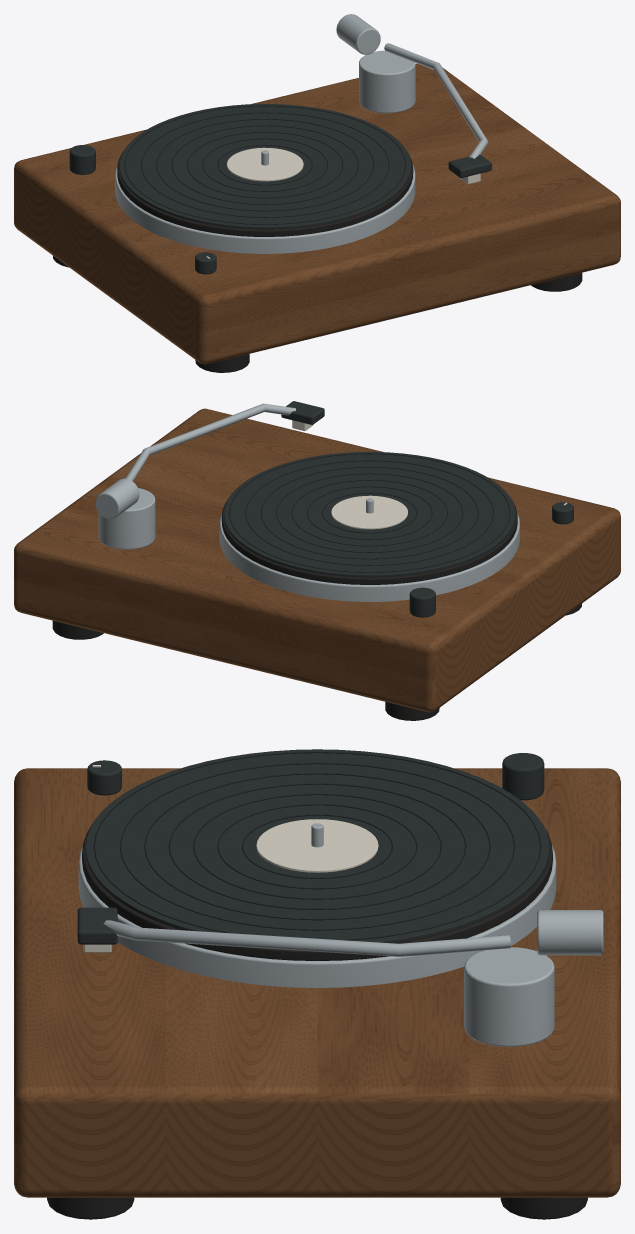
The model's file is innerscene-walnut-spin-angular.glb.
3 renders of one model, top to bottom at view 1: azimuth 30°, elevation 25°; view 2: azimuth 150°, elevation 25°; view 3: azimuth 270°, elevation 25°, orthographic. The views are drawn at different scales.
Visible parts, largest first — view 1: Walnut deck plinth, Vinyl record, Turntable bearing, Tonearm pivot, Rubber platter mat, Record centre label, Articulated tonearm, Tonearm counterweight, Record groove.006, Record groove.005, Belt motor pulley, Pickup headshell (+5 smaller); view 2: Walnut deck plinth, Vinyl record, Turntable bearing, Rubber platter mat, Tonearm pivot, Record centre label, Articulated tonearm, Tonearm counterweight, Record groove.006, Record groove.005, Belt motor pulley, Record groove.004 (+6 smaller); view 3: Walnut deck plinth, Vinyl record, Turntable bearing, Tonearm pivot, Articulated tonearm, Record centre label, Rubber platter mat, Tonearm counterweight, Belt motor pulley, Record groove.006, Record groove.005, Isolation foot.002 (+7 smaller).
Part boxes in pixels (left/top/right/bottom): Walnut deck plinth: left=14, top=63, right=620, bottom=364; Vinyl record: left=119, top=104, right=410, bottom=229; Turntable bearing: left=115, top=164, right=415, bottom=253; Tonearm pivot: left=359, top=50, right=415, bottom=113; Rubber platter mat: left=117, top=151, right=413, bottom=236; Record centre label: left=227, top=147, right=303, bottom=181; Articulated tonearm: left=384, top=43, right=488, bottom=158; Tonearm counterweight: left=336, top=14, right=380, bottom=54; Record groove.006: left=124, top=105, right=405, bottom=224; Record groove.005: left=141, top=112, right=389, bottom=217; Belt motor pulley: left=69, top=145, right=95, bottom=174; Pickup headshell: left=448, top=154, right=491, bottom=177; Walnut deck plinth: left=14, top=408, right=620, bottom=712; Vinyl record: left=224, top=452, right=515, bottom=577; Turntable bearing: left=219, top=512, right=519, bottom=601; Rubber platter mat: left=221, top=499, right=517, bottom=584; Tonearm pivot: left=98, top=488, right=155, bottom=549; Record centre label: left=331, top=495, right=407, bottom=529; Articulated tonearm: left=125, top=403, right=295, bottom=481; Tonearm counterweight: left=95, top=478, right=139, bottom=519; Record groove.006: left=229, top=453, right=510, bottom=572; Record groove.005: left=245, top=460, right=493, bottom=565; Belt motor pulley: left=409, top=587, right=435, bottom=617; Record groove.004: left=260, top=467, right=478, bottom=559; Walnut deck plinth: left=14, top=768, right=620, bottom=1197; Vinyl record: left=85, top=749, right=549, bottom=943; Turntable bearing: left=78, top=845, right=556, bottom=987; Tonearm pivot: left=464, top=947, right=554, bottom=1046; Articulated tonearm: left=103, top=920, right=510, bottom=956; Record centre label: left=256, top=819, right=378, bottom=872; Rubber platter mat: left=82, top=822, right=552, bottom=960; Tonearm counterweight: left=537, top=910, right=603, bottom=955; Belt motor pulley: left=502, top=753, right=544, bottom=800; Record groove.006: left=93, top=752, right=541, bottom=940; Record groove.005: left=119, top=763, right=515, bottom=930; Isolation foot.002: left=47, top=1197, right=134, bottom=1219.
Size of the model in its own units: 0.445 by 0.161 by 0.348.
Materials: 7 (7 with a texture image).
